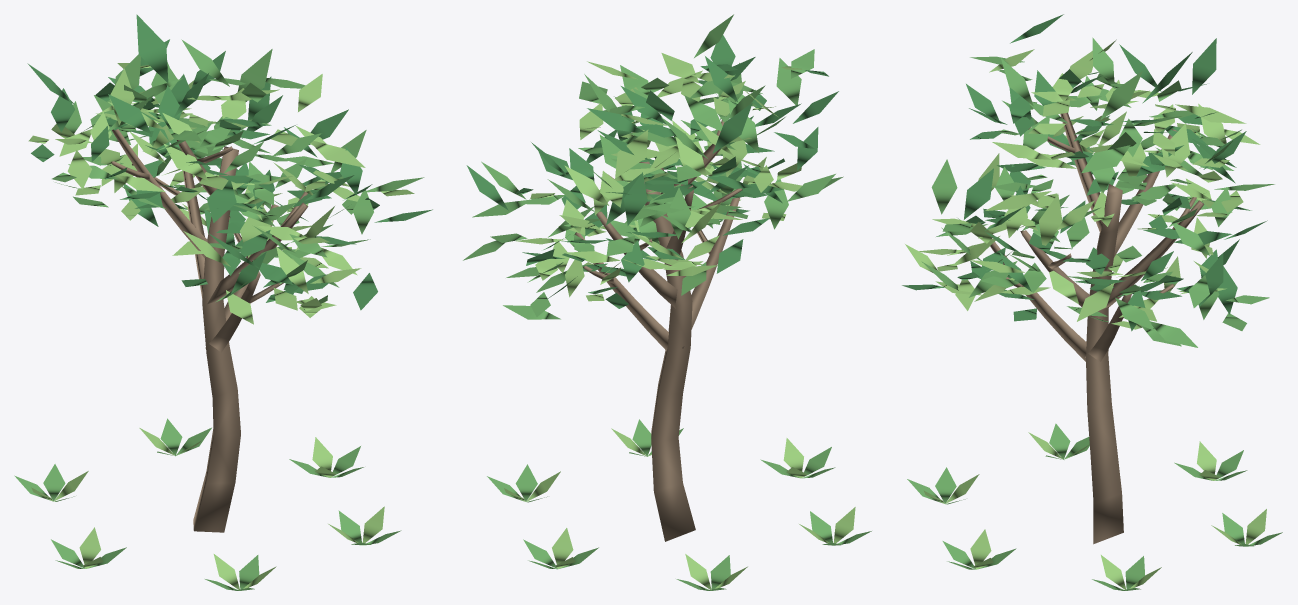
The model's file is SM_PlantTreeLod2.fbx.
The picture shows the model from 3 angles, left to right: view 1: azimuth 30°, elevation 25°; view 2: azimuth 150°, elevation 25°; view 3: azimuth 270°, elevation 25°; orthographic projection. The views are drawn at different scales.
Visible parts, largest first — view 1: PlantTreeLod2; view 2: PlantTreeLod2; view 3: PlantTreeLod2.
Boxes of the visible parts, x1,y1,x2,y2 form: PlantTreeLod2: (14, 14, 432, 590); PlantTreeLod2: (463, 14, 871, 590); PlantTreeLod2: (902, 14, 1282, 590).
Bounding box in the file's own units: 1.47 × 1.93 × 1.4.
